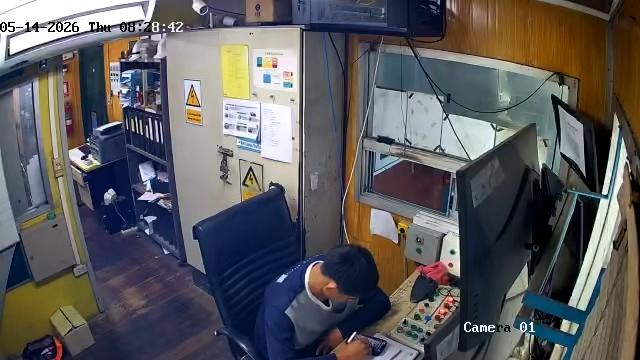Head: (320, 245, 379, 300)
People: (255, 243, 391, 360)
Phone: (345, 331, 388, 355)
